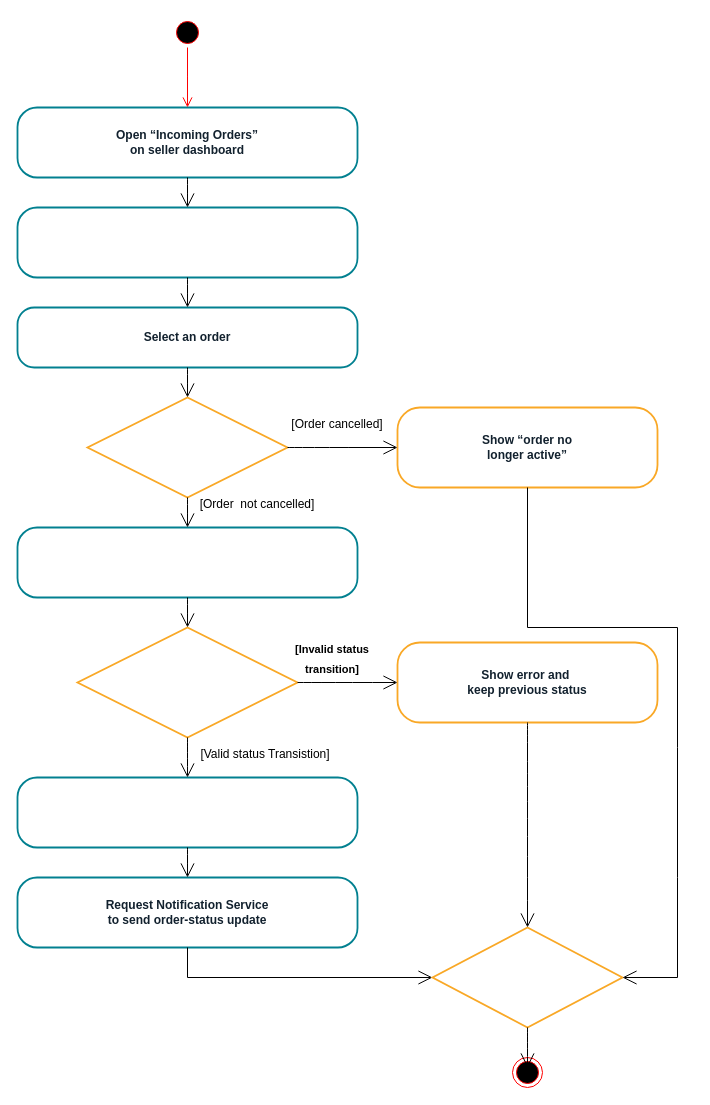
This 710x1105 diagram has some shape labels left out. The shapes that lost their labels are listed below. From the top down, each one's box as (x1, y1, x2, y2) in pixels, then its label:
(16, 206, 358, 278): View list of orders awaiting fulfilment
(16, 526, 358, 598): Update order status (ex: to Shipped)
(16, 776, 358, 848): Validate & record status change with timestamp
